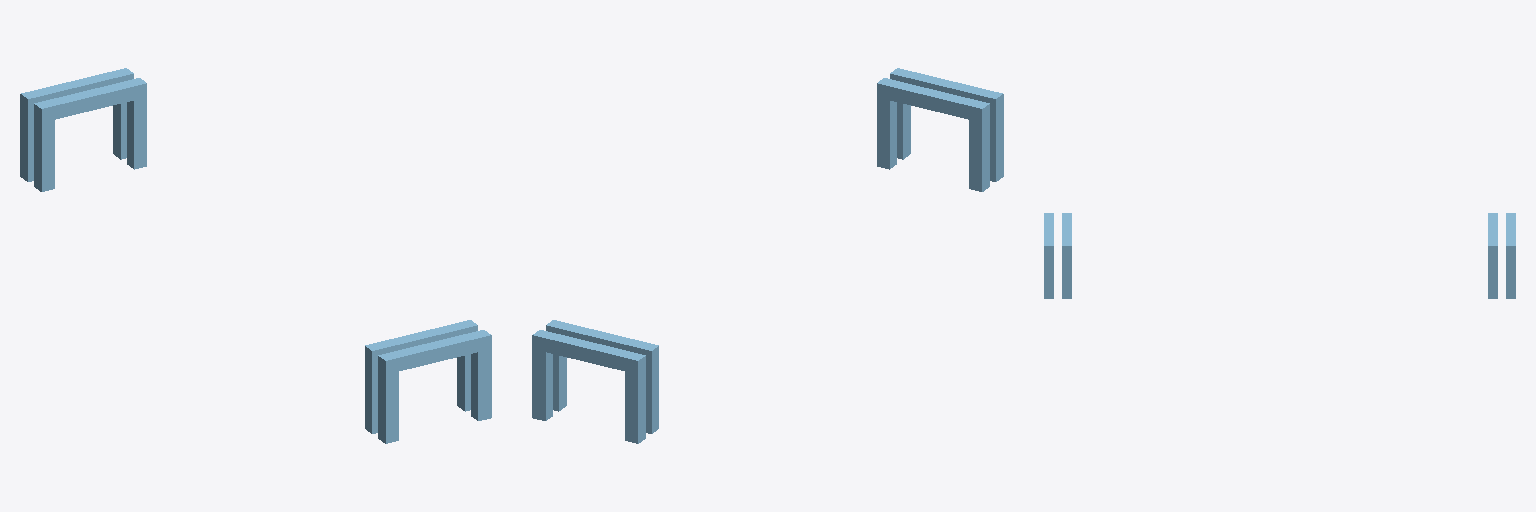
The robot description file, URDF, robot "onshape":
<robot name="onshape">
    <link name="drivetrain_assembly">
        <visual>
            <origin xyz="-0.4572 -0.3048 0" rpy="0 -0 0"/>
            <geometry>
                <mesh filename="package://drivetrain.stl"/>
            </geometry>
            <material name="drivetrain_material">
                <color rgba="0.615686 0.811765 0.929412 1.0"/>
            </material>
        </visual>
        <collision>
            <origin xyz="-0.4572 -0.3048 0" rpy="0 -0 0"/>
            <geometry>
                <mesh filename="package://drivetrain.stl"/>
            </geometry>
            <material name="drivetrain_material">
                <color rgba="0.615686 0.811765 0.929412 1.0"/>
            </material>
        </collision>
        <visual>
            <origin xyz="0.43815 0.28575 0.127" rpy="2.12635e-17 5.12772e-17 -1.5708"/>
            <geometry>
                <mesh filename="package://telescoping_holder.stl"/>
            </geometry>
            <material name="telescoping_holder_material">
                <color rgba="0.647059 0.647059 0.647059 1.0"/>
            </material>
        </visual>
        <collision>
            <origin xyz="0.43815 0.28575 0.127" rpy="2.12635e-17 5.12772e-17 -1.5708"/>
            <geometry>
                <mesh filename="package://telescoping_holder.stl"/>
            </geometry>
            <material name="telescoping_holder_material">
                <color rgba="0.647059 0.647059 0.647059 1.0"/>
            </material>
        </collision>
        <visual>
            <origin xyz="0.43815 -0.28575 0.127" rpy="2.12635e-17 5.12772e-17 1.5708"/>
            <geometry>
                <mesh filename="package://telescoping_holder.stl"/>
            </geometry>
            <material name="telescoping_holder_material">
                <color rgba="0.647059 0.647059 0.647059 1.0"/>
            </material>
        </visual>
        <collision>
            <origin xyz="0.43815 -0.28575 0.127" rpy="2.12635e-17 5.12772e-17 1.5708"/>
            <geometry>
                <mesh filename="package://telescoping_holder.stl"/>
            </geometry>
            <material name="telescoping_holder_material">
                <color rgba="0.647059 0.647059 0.647059 1.0"/>
            </material>
        </collision>
        <inertial>
            <origin xyz="-0.117123 -3.31188e-16 0.205744" rpy="0 0 0"/>
            <mass value="303.881"/>
            <inertia ixx="21.2597" ixy="-3.10862e-15" ixz="8.37918" iyy="36.7853" iyz="1.31839e-15" izz="28.9018"/>
        </inertial>
    </link>

    <link name="telescoping_hooks_assembly">
        <visual>
            <origin xyz="0 0 -0.889" rpy="0 -3.08149e-33 5.45672e-47"/>
            <geometry>
                <mesh filename="package://telescoping_hook.stl"/>
            </geometry>
            <material name="telescoping_hook_material">
                <color rgba="0.615686 0.811765 0.929412 1.0"/>
            </material>
        </visual>
        <collision>
            <origin xyz="0 0 -0.889" rpy="0 -3.08149e-33 5.45672e-47"/>
            <geometry>
                <mesh filename="package://telescoping_hook.stl"/>
            </geometry>
            <material name="telescoping_hook_material">
                <color rgba="0.615686 0.811765 0.929412 1.0"/>
            </material>
        </collision>
        <visual>
            <origin xyz="0 0.5715 -0.889" rpy="0 -3.08149e-33 5.45672e-47"/>
            <geometry>
                <mesh filename="package://telescoping_hook.stl"/>
            </geometry>
            <material name="telescoping_hook_material">
                <color rgba="0.615686 0.811765 0.929412 1.0"/>
            </material>
        </visual>
        <collision>
            <origin xyz="0 0.5715 -0.889" rpy="0 -3.08149e-33 5.45672e-47"/>
            <geometry>
                <mesh filename="package://telescoping_hook.stl"/>
            </geometry>
            <material name="telescoping_hook_material">
                <color rgba="0.615686 0.811765 0.929412 1.0"/>
            </material>
        </collision>
        <inertial>
            <origin xyz="2.13016e-17 0.28575 -0.446524" rpy="0 0 0"/>
            <mass value="1.36123"/>
            <inertia ixx="0.201718" ixy="9.87512e-35" ixz="2.79792e-34" iyy="0.0905698" iyz="2.15922e-17"
                     izz="0.111376"/>
        </inertial>
    </link>

    <link name="passive_hook">
        <visual>
            <origin xyz="-0.0889 -0.03175 -0.00635" rpy="-1.5708 -1.5708 0"/>
            <geometry>
                <box size="0.0127 0.0127 0.0635"/>
            </geometry>
            <material name="telescoping_hook_1_new_material">
                <color rgba="0.615686 0.811765 0.929412 1.0"/>
            </material>
        </visual>
        <collision>
            <origin xyz="-0.0889 -0.03175 -0.00635" rpy="-1.5708 -1.5708 0"/>
            <geometry>
                <box size="0.0127 0.0127 0.0635"/>
            </geometry>
            <material name="telescoping_hook_1_new_material">
                <color rgba="0.615686 0.811765 0.929412 1.0"/>
            </material>
        </collision>
        <visual>
            <origin xyz="-0.04445 -0.06985 -0.00635" rpy="1.02554e-16 -1.5708 0"/>
            <geometry>
                <box size="0.0127 0.0127 0.1016"/>
            </geometry>
            <material name="telescoping_hook_3_new_material">
                <color rgba="0.615686 0.811765 0.929412 1.0"/>
            </material>
        </visual>
        <collision>
            <origin xyz="-0.04445 -0.06985 -0.00635" rpy="1.02554e-16 -1.5708 0"/>
            <geometry>
                <box size="0.0127 0.0127 0.1016"/>
            </geometry>
            <material name="telescoping_hook_3_new_material">
                <color rgba="0.615686 0.811765 0.929412 1.0"/>
            </material>
        </collision>
        <visual>
            <origin xyz="-5.55112e-17 -0.03175 -0.00635" rpy="-1.5708 -1.5708 0"/>
            <geometry>
                <box size="0.0127 0.0127 0.0635"/>
            </geometry>
            <material name="telescoping_hook_1_new_material">
                <color rgba="0.615686 0.811765 0.929412 1.0"/>
            </material>
        </visual>
        <collision>
            <origin xyz="-5.55112e-17 -0.03175 -0.00635" rpy="-1.5708 -1.5708 0"/>
            <geometry>
                <box size="0.0127 0.0127 0.0635"/>
            </geometry>
            <material name="telescoping_hook_1_new_material">
                <color rgba="0.615686 0.811765 0.929412 1.0"/>
            </material>
        </collision>
        <inertial>
            <origin xyz="-0.04445 -0.0486833 -0.00635" rpy="0 0 0"/>
            <mass value="0.0995514"/>
            <inertia ixx="3.83575e-05" ixy="-3.28649e-19" ixz="-1.2053e-21" iyy="0.000167257" iyz="4.77721e-35"
                     izz="0.000202938"/>
        </inertial>
    </link>

    <joint name="activehook1" type="fixed">
        <origin xyz="0 0.561975 2.22045e-16" rpy="-1.5708 -3.08149e-33 3.14159"/>
        <parent link="telescoping_hooks_assembly"/>
        <child link="passive_hook"/>
        <axis xyz="0 0 1"/>
        <limit effort="1" velocity="20"/>
        <joint_properties friction="0.0"/>
    </joint>

    <link name="passive_hook_2">
        <visual>
            <origin xyz="-5.55112e-17 -0.03175 -0.00635" rpy="-1.5708 -1.5708 0"/>
            <geometry>
                <box size="0.0127 0.0127 0.0635"/>
            </geometry>
            <material name="telescoping_hook_1_new_material">
                <color rgba="0.615686 0.811765 0.929412 1.0"/>
            </material>
        </visual>
        <collision>
            <origin xyz="-5.55112e-17 -0.03175 -0.00635" rpy="-1.5708 -1.5708 0"/>
            <geometry>
                <box size="0.0127 0.0127 0.0635"/>
            </geometry>
            <material name="telescoping_hook_1_new_material">
                <color rgba="0.615686 0.811765 0.929412 1.0"/>
            </material>
        </collision>
        <visual>
            <origin xyz="-0.0889 -0.03175 -0.00635" rpy="-1.5708 -1.5708 0"/>
            <geometry>
                <box size="0.0127 0.0127 0.0635"/>
            </geometry>
            <material name="telescoping_hook_1_new_material">
                <color rgba="0.615686 0.811765 0.929412 1.0"/>
            </material>
        </visual>
        <collision>
            <origin xyz="-0.0889 -0.03175 -0.00635" rpy="-1.5708 -1.5708 0"/>
            <geometry>
                <box size="0.0127 0.0127 0.0635"/>
            </geometry>
            <material name="telescoping_hook_1_new_material">
                <color rgba="0.615686 0.811765 0.929412 1.0"/>
            </material>
        </collision>
        <visual>
            <origin xyz="-0.04445 -0.06985 -0.00635" rpy="4.06835e-27 -1.5708 0"/>
            <geometry>
                <box size="0.0127 0.0127 0.1016"/>
            </geometry>
            <material name="telescoping_hook_3_new_material">
                <color rgba="0.615686 0.811765 0.929412 1.0"/>
            </material>
        </visual>
        <collision>
            <origin xyz="-0.04445 -0.06985 -0.00635" rpy="4.06835e-27 -1.5708 0"/>
            <geometry>
                <box size="0.0127 0.0127 0.1016"/>
            </geometry>
            <material name="telescoping_hook_3_new_material">
                <color rgba="0.615686 0.811765 0.929412 1.0"/>
            </material>
        </collision>
        <inertial>
            <origin xyz="-0.04445 -0.0486833 -0.00635" rpy="0 0 0"/>
            <mass value="0.0995514"/>
            <inertia ixx="3.83575e-05" ixy="4.33475e-19" ixz="-4.38732e-22" iyy="0.000167257" iyz="-5.41331e-20"
                     izz="0.000202938"/>
        </inertial>
    </link>

    <joint name="activehook2" type="fixed">
        <origin xyz="-5.55112e-17 -0.009525 4.44089e-16" rpy="-1.5708 -8.51976e-28 -3.14159"/>
        <parent link="telescoping_hooks_assembly"/>
        <child link="passive_hook_2"/>
        <axis xyz="0 0 1"/>
        <limit effort="1" velocity="20"/>
        <joint_properties friction="0.0"/>
    </joint>

    <joint name="telescope" type="prismatic">
        <origin xyz="0.43815 -0.28575 1.016" rpy="-5.12772e-17 2.12635e-17 1.03467e-30"/>
        <parent link="drivetrain_assembly"/>
        <child link="telescoping_hooks_assembly"/>
        <axis xyz="0 0 1"/>
        <limit effort="1" velocity="20"/>
        <joint_properties friction="0.0"/>
    </joint>

    <link name="passive_hook_3">
        <visual>
            <origin xyz="0.04445 -0.06985 -0.00635" rpy="-3.33067e-16 -1.5708 0"/>
            <geometry>
                <box size="0.0127 0.0127 0.1016"/>
            </geometry>
            <material name="telescoping_hook_3_new_material">
                <color rgba="0.615686 0.811765 0.929412 1.0"/>
            </material>
        </visual>
        <collision>
            <origin xyz="0.04445 -0.06985 -0.00635" rpy="-3.33067e-16 -1.5708 0"/>
            <geometry>
                <box size="0.0127 0.0127 0.1016"/>
            </geometry>
            <material name="telescoping_hook_3_new_material">
                <color rgba="0.615686 0.811765 0.929412 1.0"/>
            </material>
        </collision>
        <visual>
            <origin xyz="1.11022e-16 -0.03175 -0.00635" rpy="-1.5708 -1.5708 0"/>
            <geometry>
                <box size="0.0127 0.0127 0.0635"/>
            </geometry>
            <material name="telescoping_hook_1_new_material">
                <color rgba="0.615686 0.811765 0.929412 1.0"/>
            </material>
        </visual>
        <collision>
            <origin xyz="1.11022e-16 -0.03175 -0.00635" rpy="-1.5708 -1.5708 0"/>
            <geometry>
                <box size="0.0127 0.0127 0.0635"/>
            </geometry>
            <material name="telescoping_hook_1_new_material">
                <color rgba="0.615686 0.811765 0.929412 1.0"/>
            </material>
        </collision>
        <visual>
            <origin xyz="0.0889 -0.03175 -0.00635" rpy="-1.5708 -1.5708 0"/>
            <geometry>
                <box size="0.0127 0.0127 0.0635"/>
            </geometry>
            <material name="telescoping_hook_1_new_material">
                <color rgba="0.615686 0.811765 0.929412 1.0"/>
            </material>
        </visual>
        <collision>
            <origin xyz="0.0889 -0.03175 -0.00635" rpy="-1.5708 -1.5708 0"/>
            <geometry>
                <box size="0.0127 0.0127 0.0635"/>
            </geometry>
            <material name="telescoping_hook_1_new_material">
                <color rgba="0.615686 0.811765 0.929412 1.0"/>
            </material>
        </collision>
        <inertial>
            <origin xyz="0.04445 -0.0486833 -0.00635" rpy="0 0 0"/>
            <mass value="0.0995514"/>
            <inertia ixx="3.83575e-05" ixy="2.47334e-19" ixz="1.30441e-19" iyy="0.000167257" iyz="-4.23313e-20"
                     izz="0.000202938"/>
        </inertial>
    </link>

    <joint name="passivehook1" type="revolute">
        <origin xyz="0.43815 0.2667 1.016" rpy="-1.5708 1.4527e-16 -3.33067e-16"/>
        <parent link="drivetrain_assembly"/>
        <child link="passive_hook_3"/>
        <axis xyz="0 0 1"/>
        <limit effort="1" velocity="20"/>
        <joint_properties friction="0.0"/>
    </joint>

    <link name="passive_hook_4">
        <visual>
            <origin xyz="0.04445 -0.06985 -0.00635" rpy="-0 -1.5708 0"/>
            <geometry>
                <box size="0.0127 0.0127 0.1016"/>
            </geometry>
            <material name="telescoping_hook_3_new_material">
                <color rgba="0.615686 0.811765 0.929412 1.0"/>
            </material>
        </visual>
        <collision>
            <origin xyz="0.04445 -0.06985 -0.00635" rpy="-0 -1.5708 0"/>
            <geometry>
                <box size="0.0127 0.0127 0.1016"/>
            </geometry>
            <material name="telescoping_hook_3_new_material">
                <color rgba="0.615686 0.811765 0.929412 1.0"/>
            </material>
        </collision>
        <visual>
            <origin xyz="0.0889 -0.03175 -0.00635" rpy="-1.5708 -1.5708 0"/>
            <geometry>
                <box size="0.0127 0.0127 0.0635"/>
            </geometry>
            <material name="telescoping_hook_1_new_material">
                <color rgba="0.615686 0.811765 0.929412 1.0"/>
            </material>
        </visual>
        <collision>
            <origin xyz="0.0889 -0.03175 -0.00635" rpy="-1.5708 -1.5708 0"/>
            <geometry>
                <box size="0.0127 0.0127 0.0635"/>
            </geometry>
            <material name="telescoping_hook_1_new_material">
                <color rgba="0.615686 0.811765 0.929412 1.0"/>
            </material>
        </collision>
        <visual>
            <origin xyz="5.55112e-17 -0.03175 -0.00635" rpy="-1.5708 -1.5708 0"/>
            <geometry>
                <box size="0.0127 0.0127 0.0635"/>
            </geometry>
            <material name="telescoping_hook_1_new_material">
                <color rgba="0.615686 0.811765 0.929412 1.0"/>
            </material>
        </visual>
        <collision>
            <origin xyz="5.55112e-17 -0.03175 -0.00635" rpy="-1.5708 -1.5708 0"/>
            <geometry>
                <box size="0.0127 0.0127 0.0635"/>
            </geometry>
            <material name="telescoping_hook_1_new_material">
                <color rgba="0.615686 0.811765 0.929412 1.0"/>
            </material>
        </collision>
        <inertial>
            <origin xyz="0.04445 -0.0486833 -0.00635" rpy="0 0 0"/>
            <mass value="0.0995514"/>
            <inertia ixx="3.83575e-05" ixy="-4.91279e-19" ixz="-1.41452e-19" iyy="0.000167257" iyz="5.19873e-20"
                     izz="0.000202938"/>
        </inertial>
    </link>

    <joint name="passivehook2" type="revolute">
        <origin xyz="0.43815 -0.3048 1.016" rpy="-1.5708 2.12635e-17 -9.10616e-17"/>
        <parent link="drivetrain_assembly"/>
        <child link="passive_hook_4"/>
        <axis xyz="0 0 1"/>
        <limit effort="1" velocity="20"/>
        <joint_properties friction="0.0"/>
    </joint>


</robot>

--- What the picture shows (computed from the rendered views, not written in the file) ---
3 views of the same robot in one strip: view 1: azimuth 30°, elevation 25°; view 2: azimuth 150°, elevation 25°; view 3: azimuth 270°, elevation 25° (orthographic).
Model onshape with 6 links and 5 joints (2 revolute, 1 prismatic, 2 fixed), rooted at drivetrain_assembly, posed every joint at zero.
Visible links, largest first — view 1: passive_hook_4, passive_hook_3, passive_hook, passive_hook_2; view 2: passive_hook, passive_hook_2, passive_hook_4, passive_hook_3; view 3: passive_hook, passive_hook_2, passive_hook_3, passive_hook_4.
Link boxes in pixels (x1,y1,x2,y2): passive_hook_4: (378, 330, 491, 443); passive_hook_3: (34, 78, 146, 191); passive_hook: (20, 68, 133, 181); passive_hook_2: (365, 320, 477, 433); passive_hook: (532, 330, 645, 443); passive_hook_2: (877, 78, 989, 191); passive_hook_4: (890, 68, 1003, 181); passive_hook_3: (546, 320, 658, 433); passive_hook: (1506, 213, 1515, 298); passive_hook_2: (1062, 213, 1071, 298); passive_hook_3: (1488, 213, 1497, 298); passive_hook_4: (1044, 213, 1053, 298).
Bounding box of the posed robot: 0.1016 × 0.6064 × 0.0762 m (x, y, z).
Geometry: only primitive shapes (box / cylinder / sphere) drawn; not drawn: 5 mesh visuals (reference in a form the renderer does not follow).